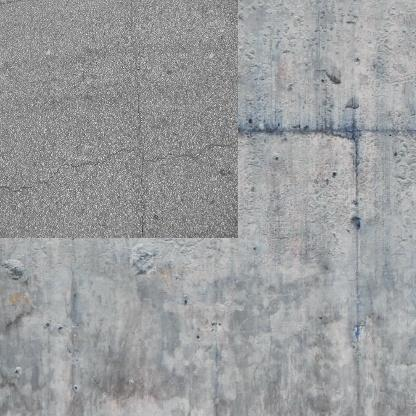Cracks: (0, 51, 220, 220), (0, 0, 105, 9), (117, 18, 128, 50), (116, 0, 125, 17)
